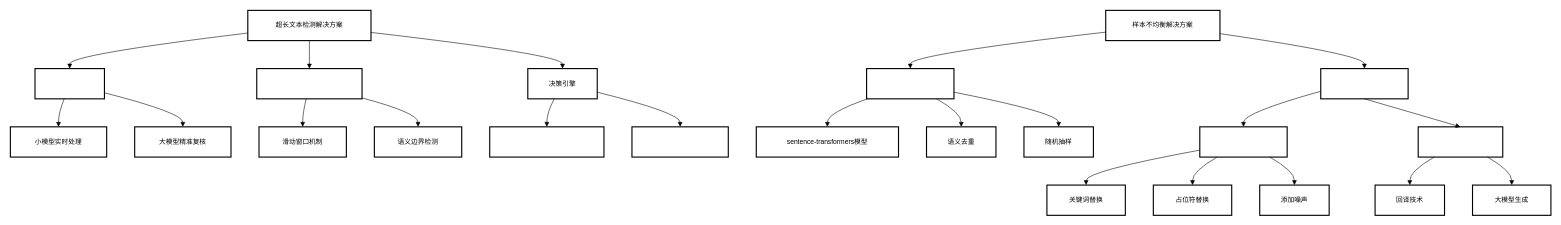
The diagram is 1561 pixels wide and 225 high, and some of its shapes have lost their labels. The shapes that lost their labels are listed below. From the top down, each one's centre as x and y in pixels, then its label:
At (x=69, y=83): "级联架构".
At (x=309, y=83): "长度限制解决方案".
At (x=910, y=83): "正常样本处理".
At (x=1364, y=83): "诈骗样本增强：每场景≥10条".
At (x=546, y=141): "短文本风险概率集成".
At (x=680, y=141): "决策树优化策略".
At (x=1243, y=141): "基于规则增强".
At (x=1460, y=141): "基于NLP增强".
